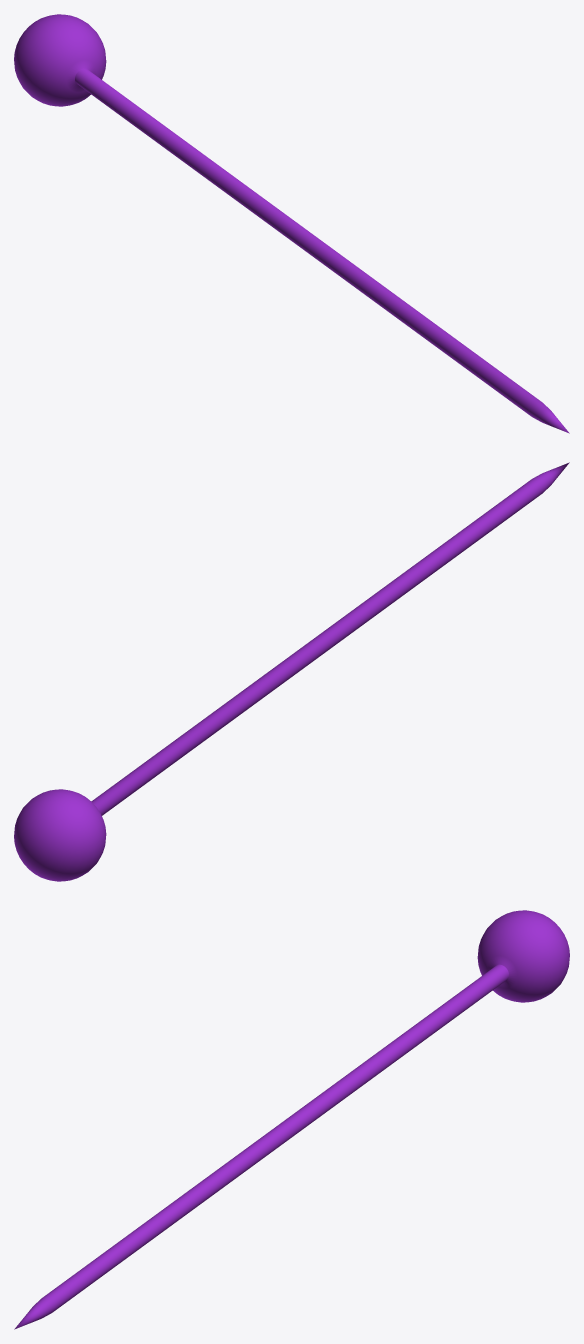
Rendered from DARKORCHID.glb.
3 views of the same model, one above another, from view 1: azimuth 30°, elevation 25°; view 2: azimuth 150°, elevation 25°; view 3: azimuth 330°, elevation 25° (orthographic).
Parts seen in each view (by area): view 1: Sphere; view 2: Sphere; view 3: Sphere.
Boxes of the visible parts, x1,y1,x2,y2 form: Sphere: (14, 14, 569, 433); Sphere: (14, 462, 569, 881); Sphere: (14, 910, 569, 1329).
Bounding box in the file's own units: 0.02 × 0.02 × 0.2305.
